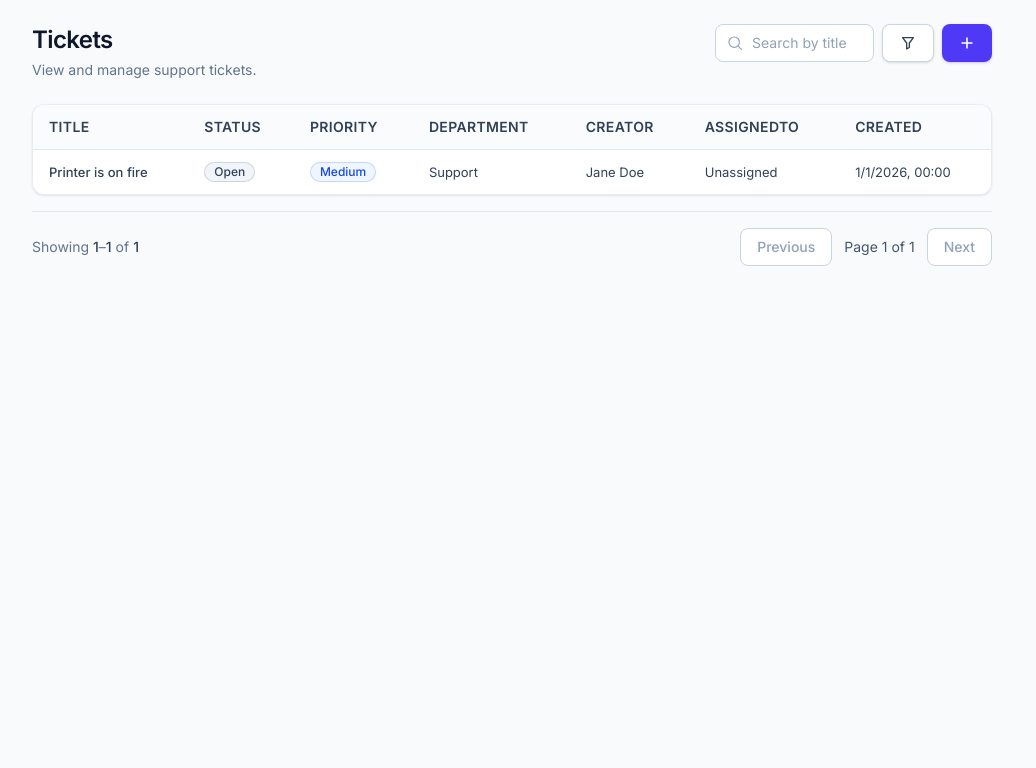
it: TicketsListPage › limits a regular user's assignee/creator filters to just themselves
The image size is (1036, 768).
Click the button named "Filters": (908, 43) top-left (882, 24), bottom-right (934, 62)
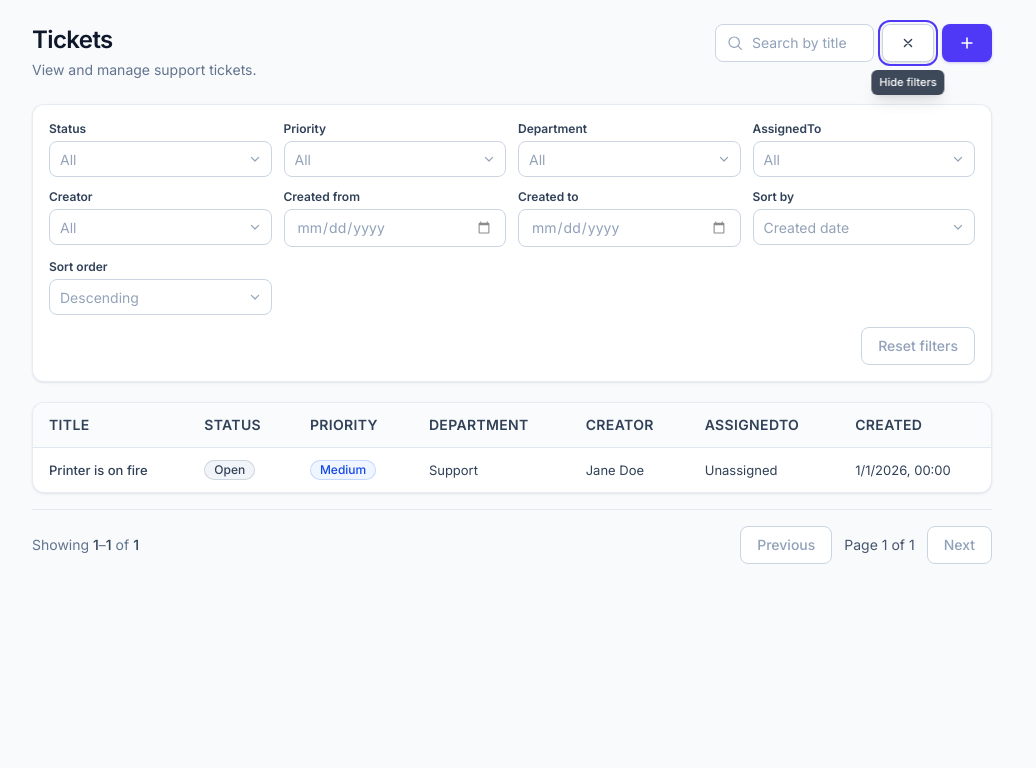
expect the 4th text "All" is shown: met, box top-left (764, 150), bottom-right (780, 168)
expect the 5th text "All" is shown: met, box top-left (60, 218), bottom-right (76, 236)
Click the dropdown labelled "AssignedTo": (765, 159) top-left (764, 148), bottom-right (767, 170)
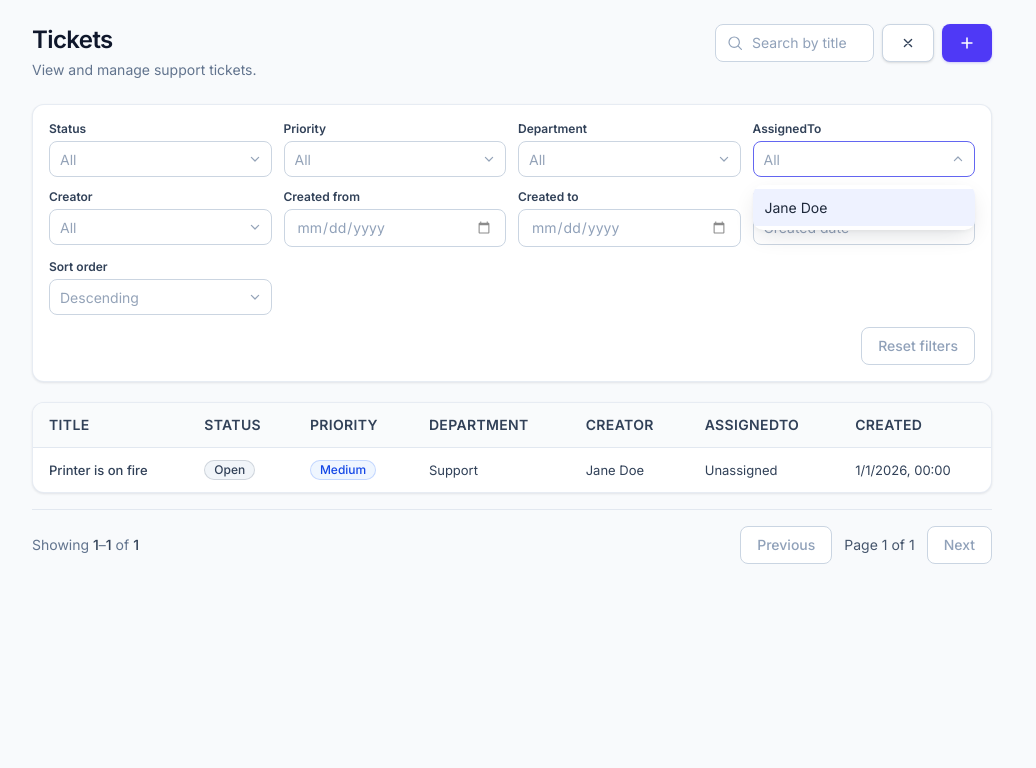
expect the options read "Jane Doe", in this order: met, box top-left (752, 189), bottom-right (975, 226)
Press Escape
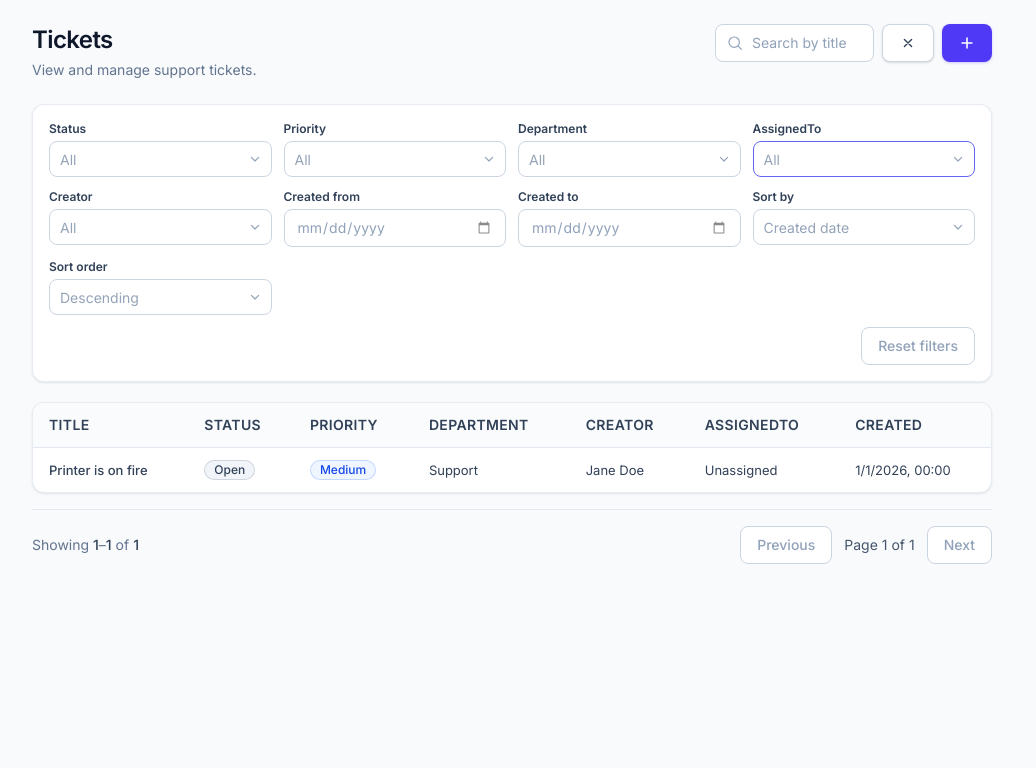
Click the dropdown labelled "Creator": (62, 227) top-left (60, 216), bottom-right (64, 238)
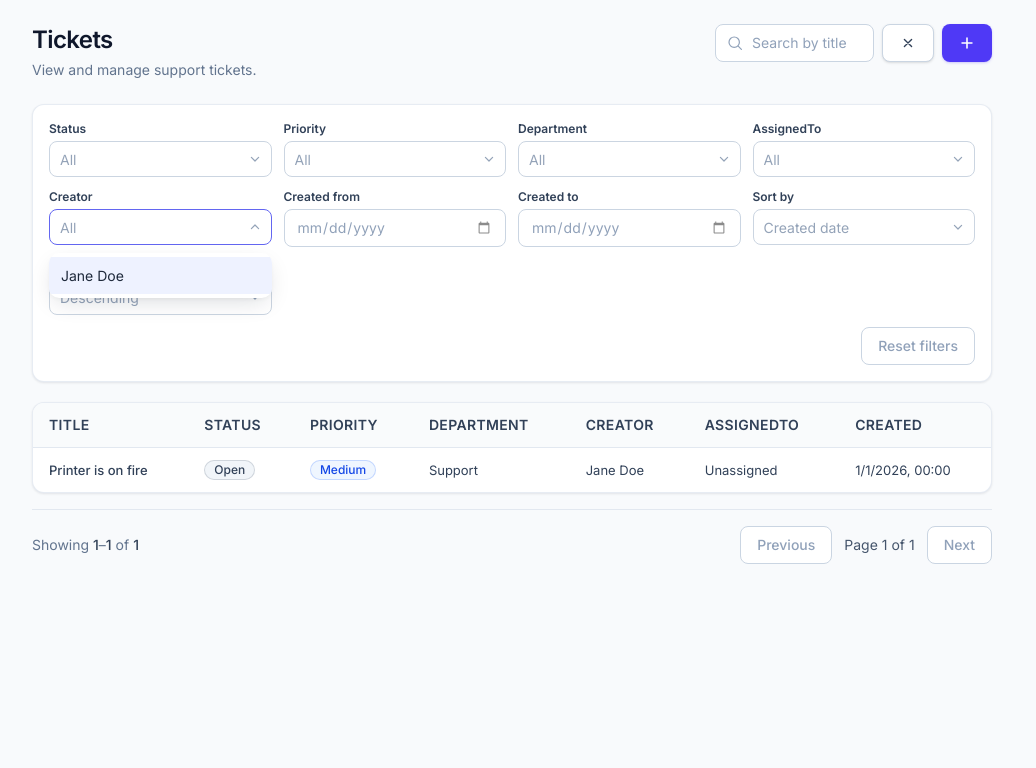
expect the options read "Jane Doe", in this order: met, box top-left (49, 257), bottom-right (272, 294)
